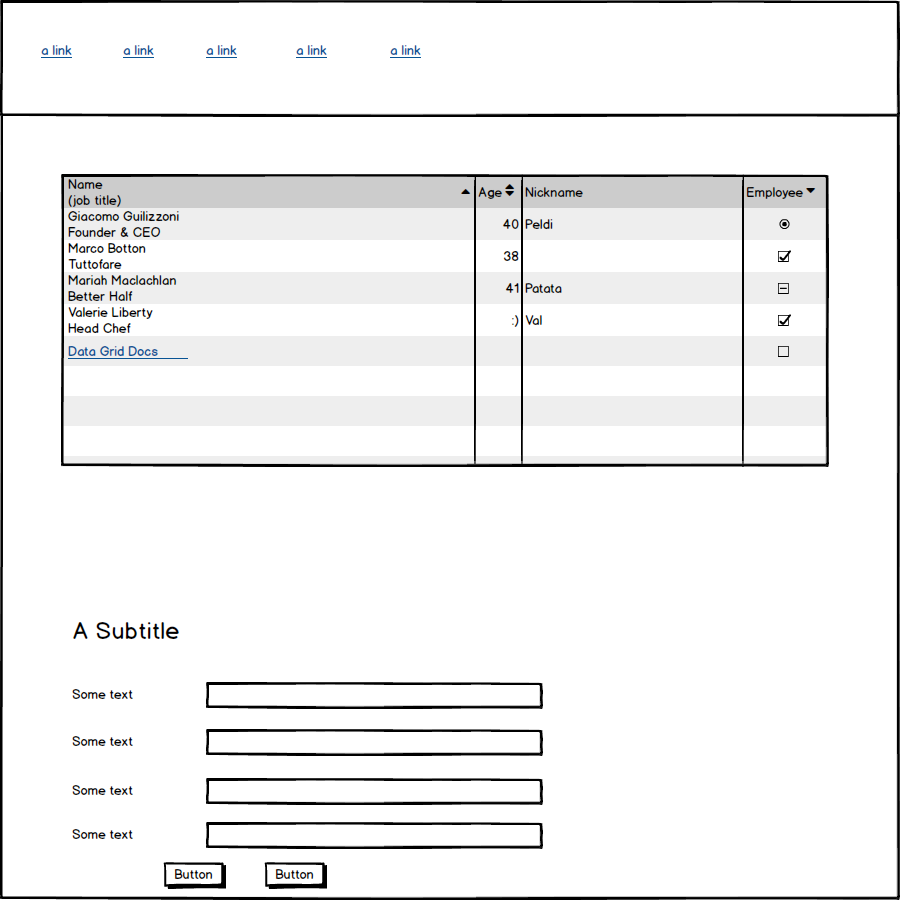button: (261, 860, 333, 895), (160, 859, 233, 893)
h1: (67, 618, 194, 647)
input: (200, 814, 555, 858), (201, 680, 546, 715), (204, 725, 548, 760), (202, 774, 549, 808)
label: (65, 730, 139, 754), (65, 777, 137, 801), (70, 822, 139, 844), (72, 685, 137, 704)
navlink: (196, 38, 253, 67), (113, 34, 163, 67), (287, 41, 337, 69), (382, 38, 430, 67), (33, 40, 75, 62)
table: (59, 163, 834, 475)
